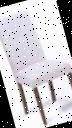Silla: (0, 4, 71, 127)
